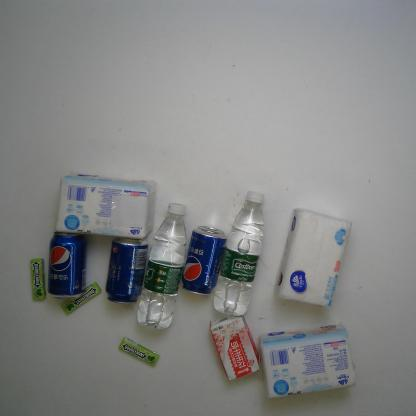Drink: (211, 188, 267, 318), (134, 200, 188, 332), (179, 223, 228, 298), (44, 229, 90, 301), (104, 236, 149, 307)
Gum: (58, 280, 102, 316), (116, 335, 161, 368), (28, 256, 48, 302)
Milk: (209, 313, 262, 384)
Tissue: (272, 206, 353, 311), (257, 321, 358, 402), (52, 168, 158, 241)
